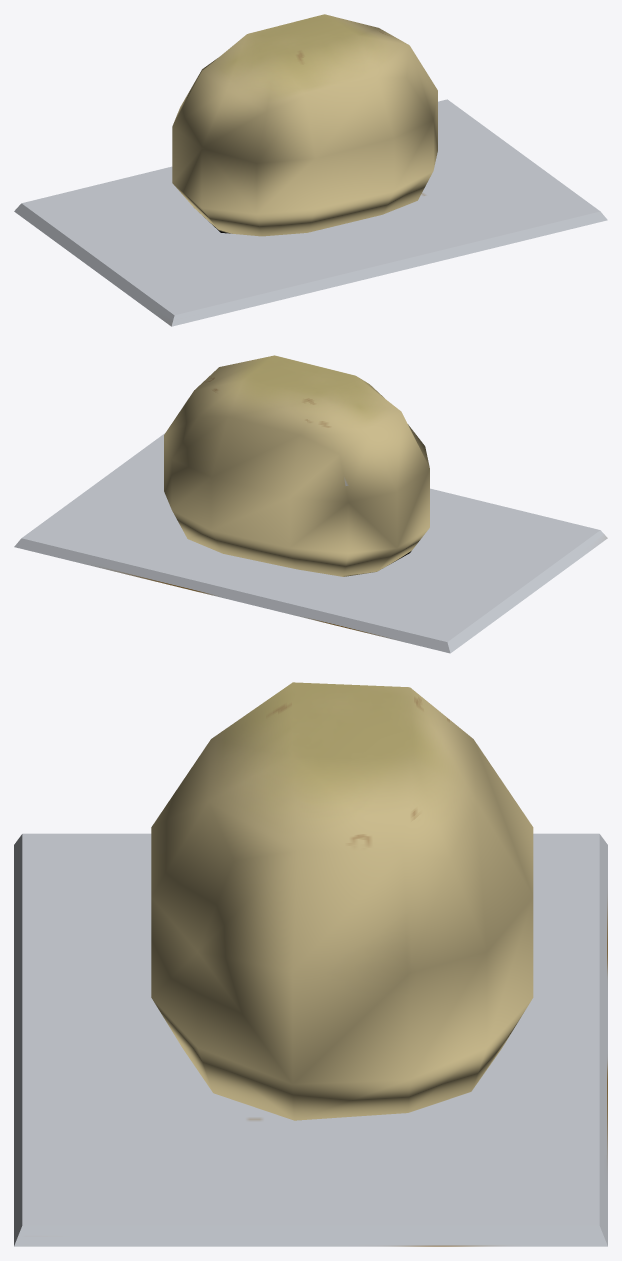
The model's file is dough.fbx.
3 views of the same model, one above another, from view 1: azimuth 30°, elevation 25°; view 2: azimuth 150°, elevation 25°; view 3: azimuth 270°, elevation 25° (orthographic). The views are drawn at different scales.
Parts seen in each view (by area): view 1: dough; view 2: dough; view 3: dough.
Part boxes in pixels (box(x1,y1,x2,y2)): dough: box(14, 14, 607, 326); dough: box(14, 355, 607, 653); dough: box(14, 682, 607, 1246).
Bounding box in the file's own units: 77.22 × 29.33 × 48.27.
1 material, 1 textured.
